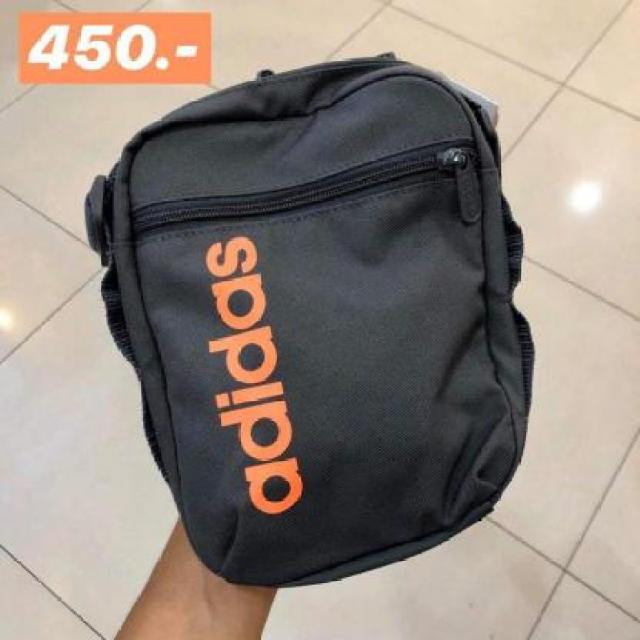Bag: (47, 4, 584, 602)
